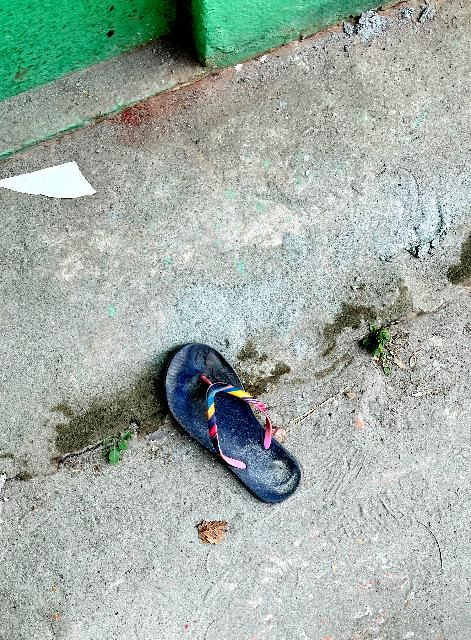sandal: (117, 310, 320, 539)
